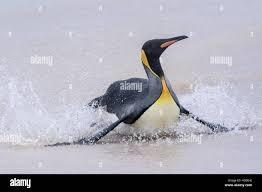king: (80, 29, 218, 150)
